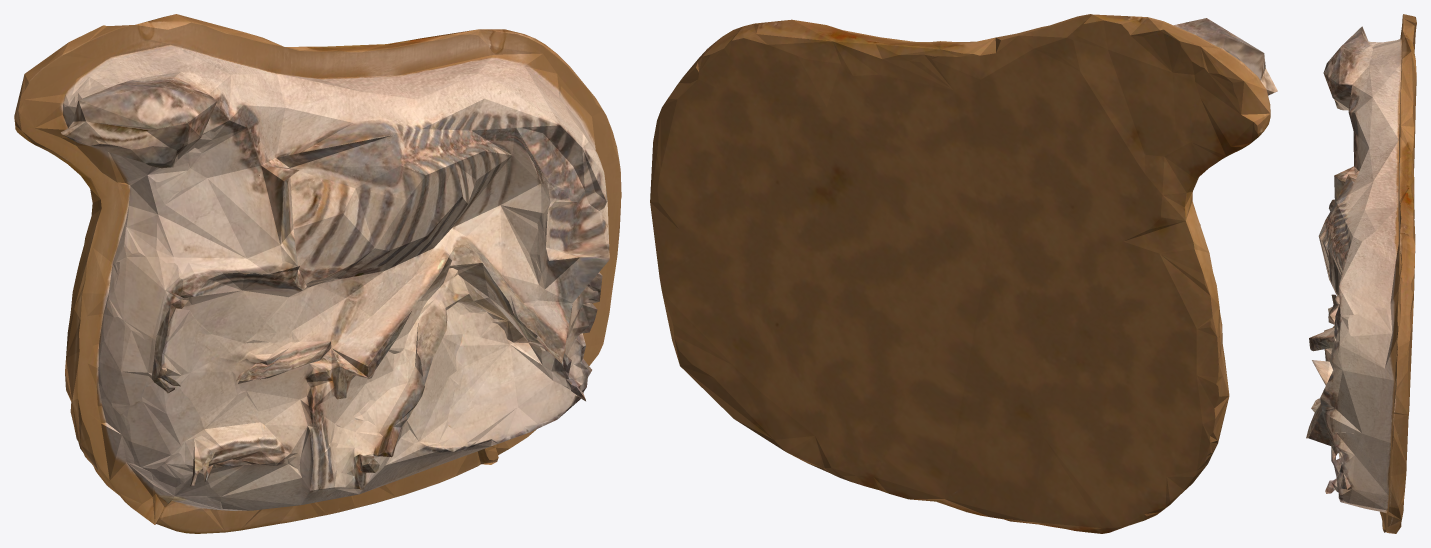
File: Horse skeleton.fbx
3 renders of one model, left to right at view 1: azimuth 30°, elevation 25°; view 2: azimuth 150°, elevation 25°; view 3: azimuth 270°, elevation 25°, orthographic. The views are drawn at different scales.
Parts seen in each view (by area): view 1: Horse_skeleton; view 2: Horse_skeleton; view 3: Horse_skeleton.
Boxes of the visible parts, x1=… form: Horse_skeleton: x1=14, y1=14, x2=621, y2=533; Horse_skeleton: x1=650, y1=14, x2=1277, y2=533; Horse_skeleton: x1=1306, y1=14, x2=1416, y2=533.
Bounding box in the file's own units: 330 × 277 × 71.95.
Materials: 1 (1 with a texture image).
